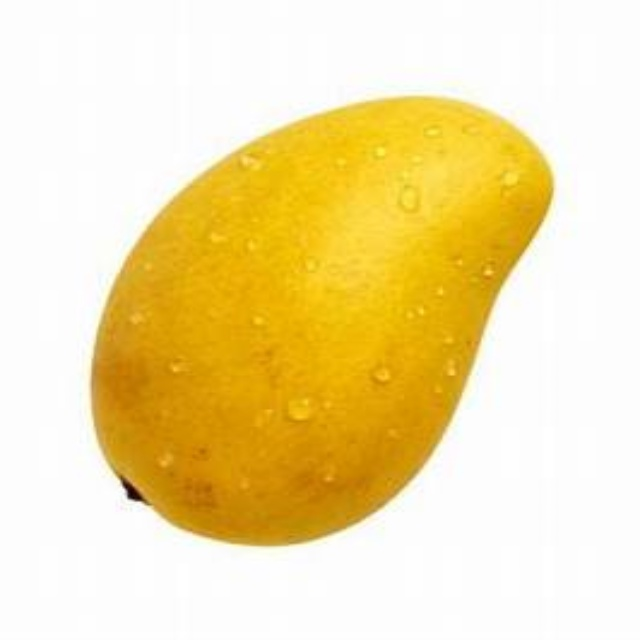mango: (88, 94, 550, 538)
